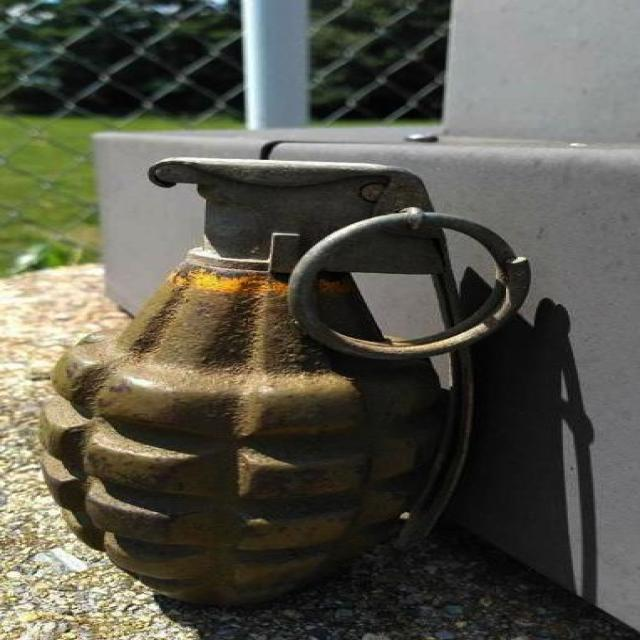grenade: (45, 160, 533, 604)
